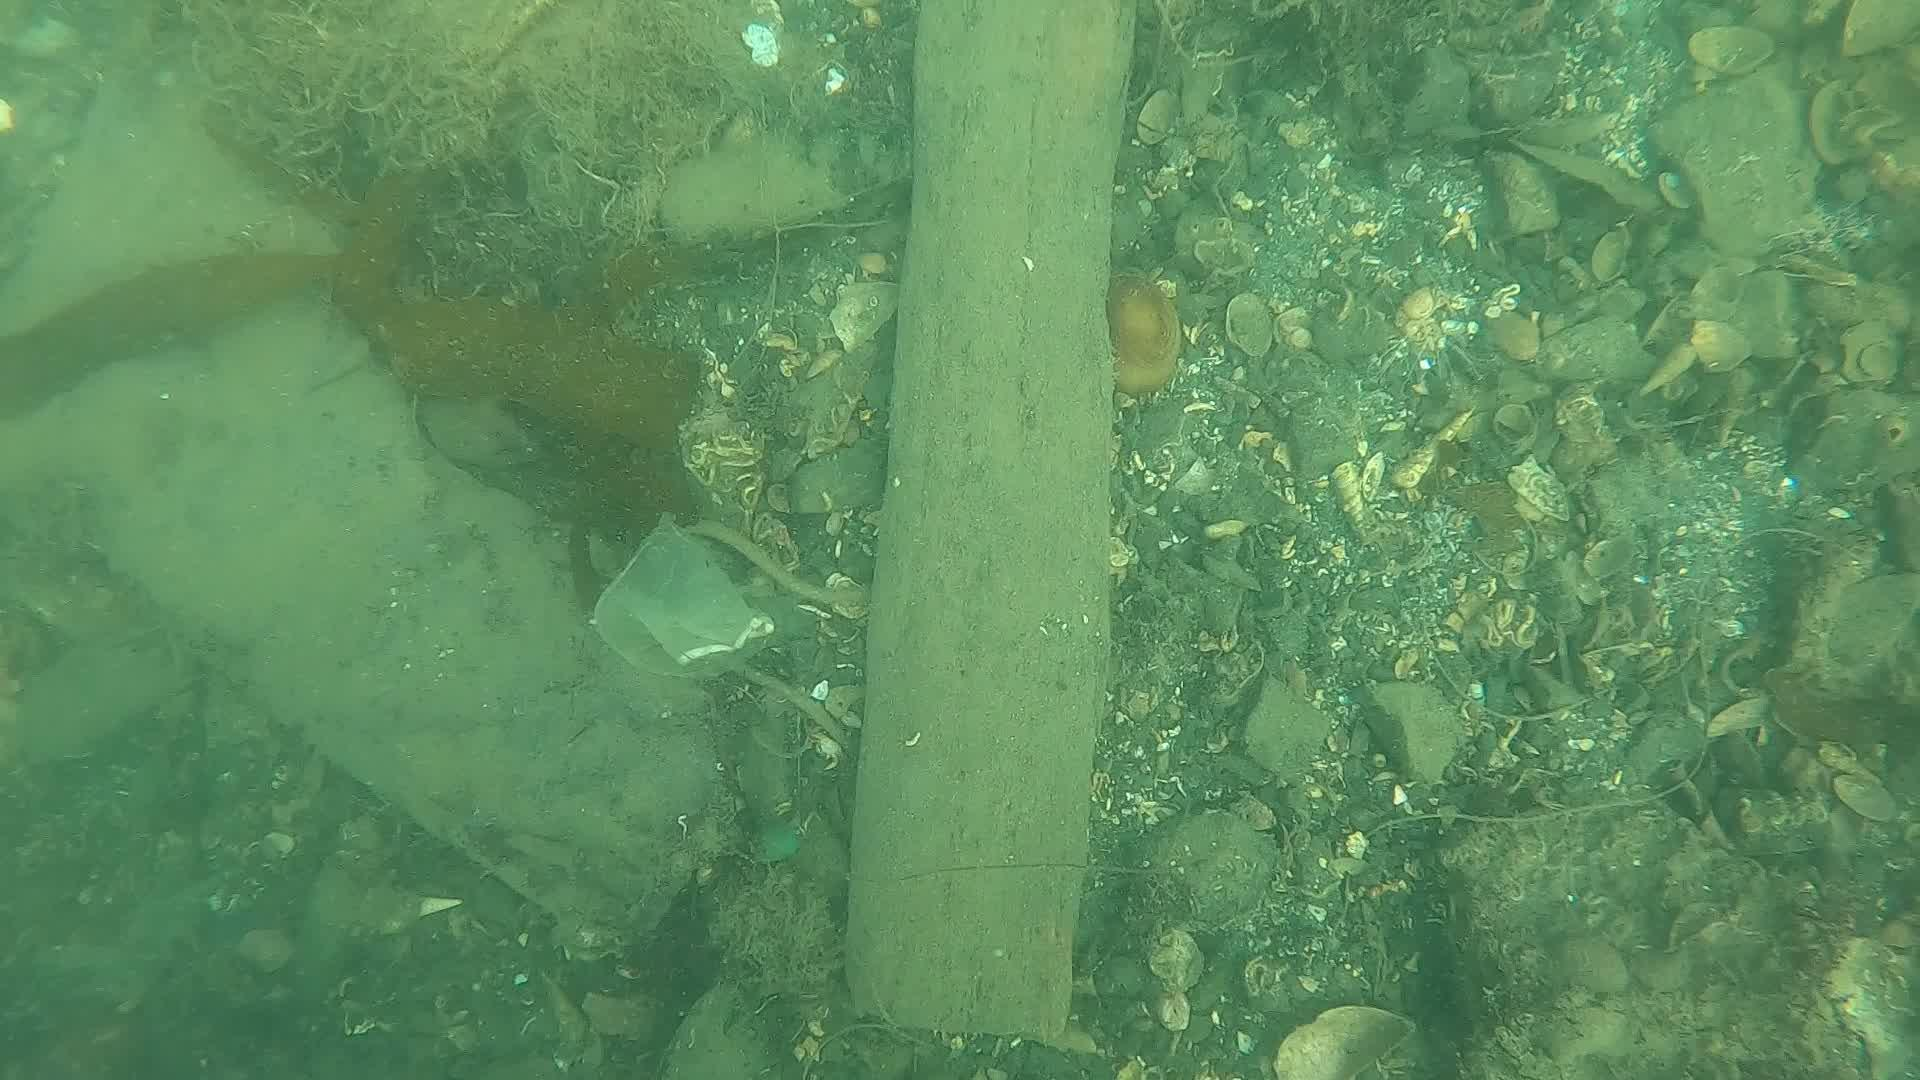wood: (837, 0, 1147, 1040)
